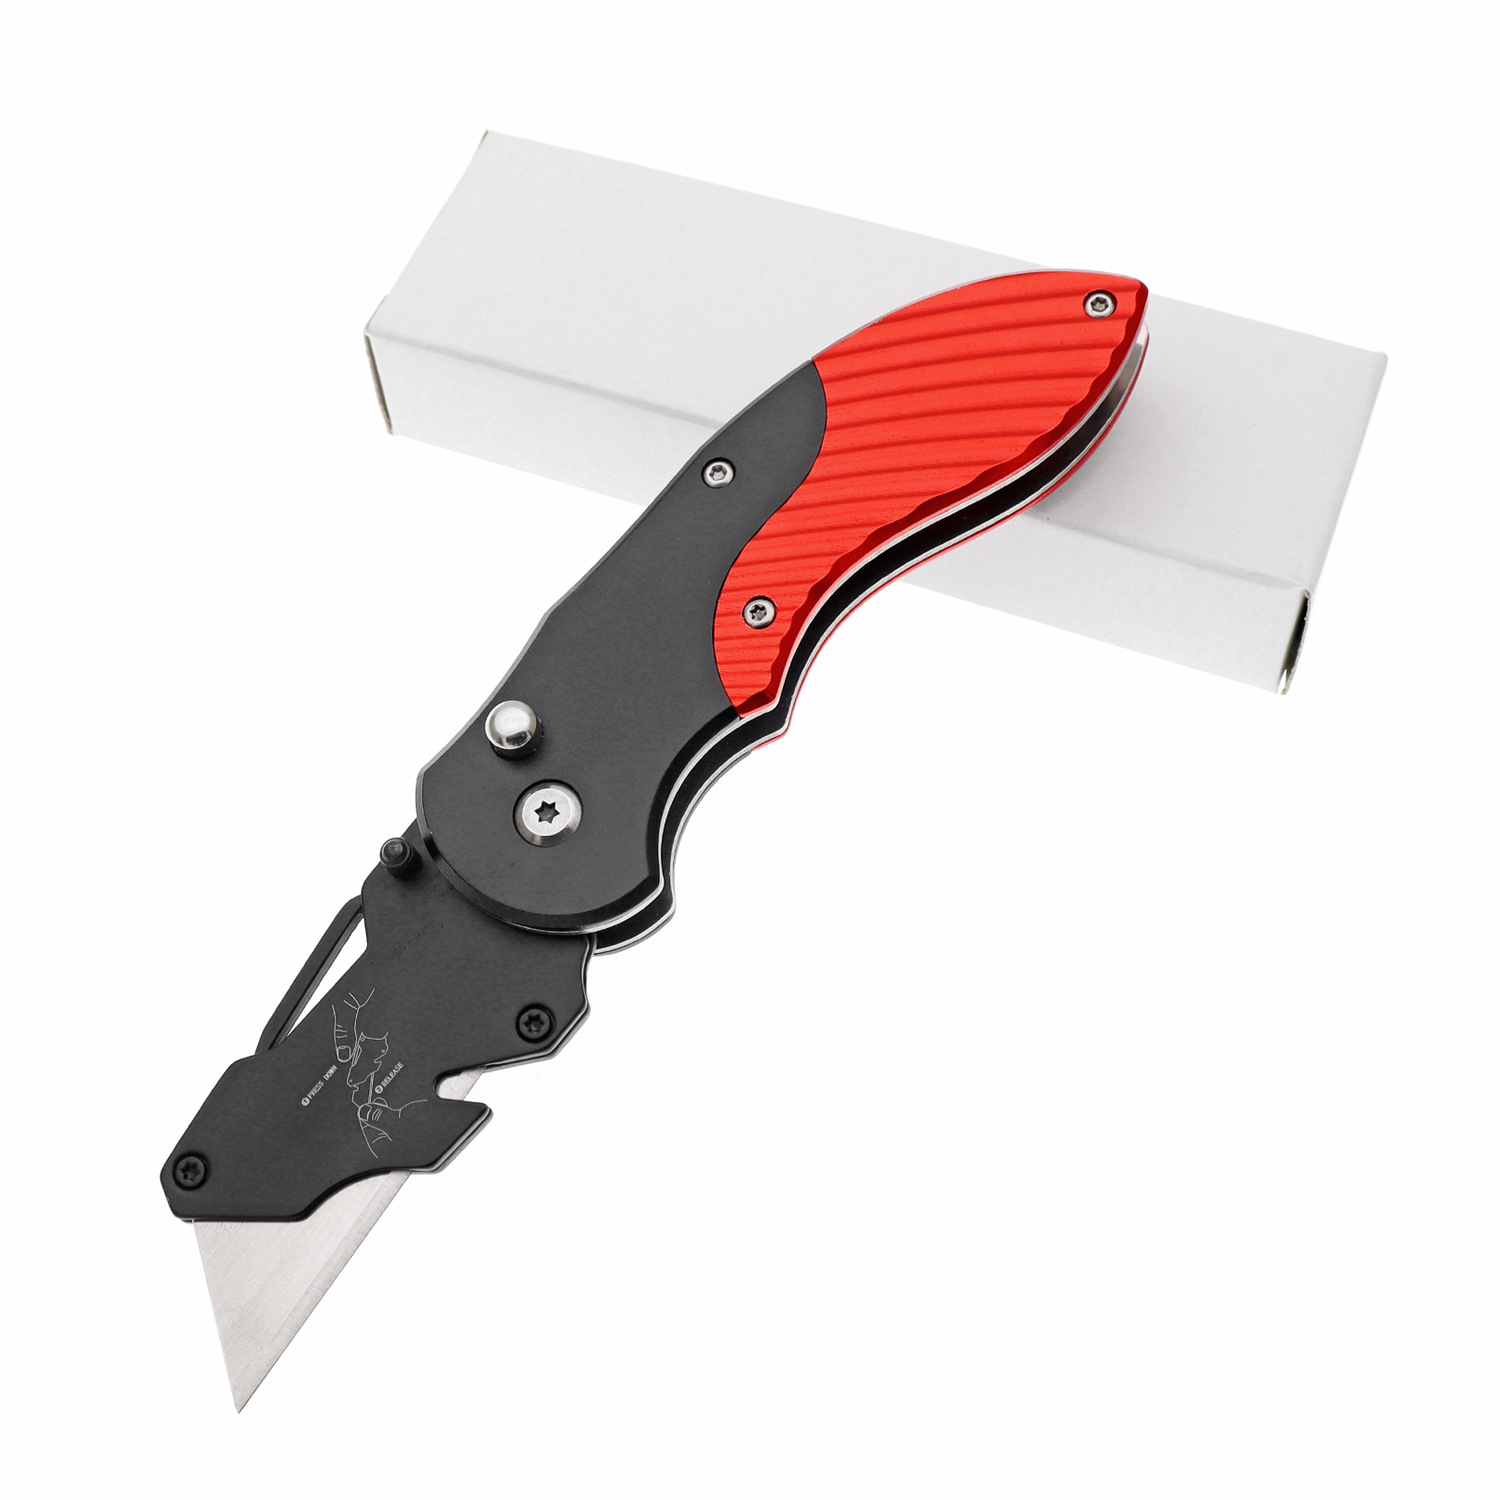knife: (155, 262, 1159, 1418)
